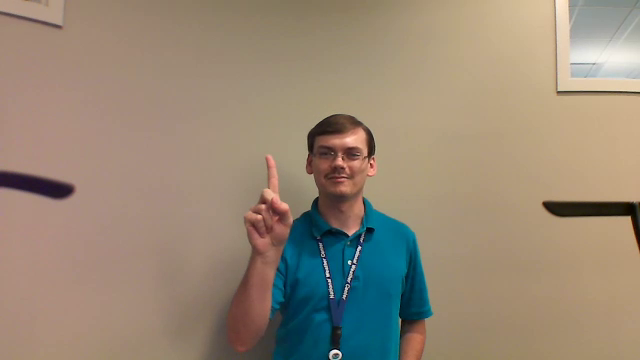up: (235, 150, 298, 257)
